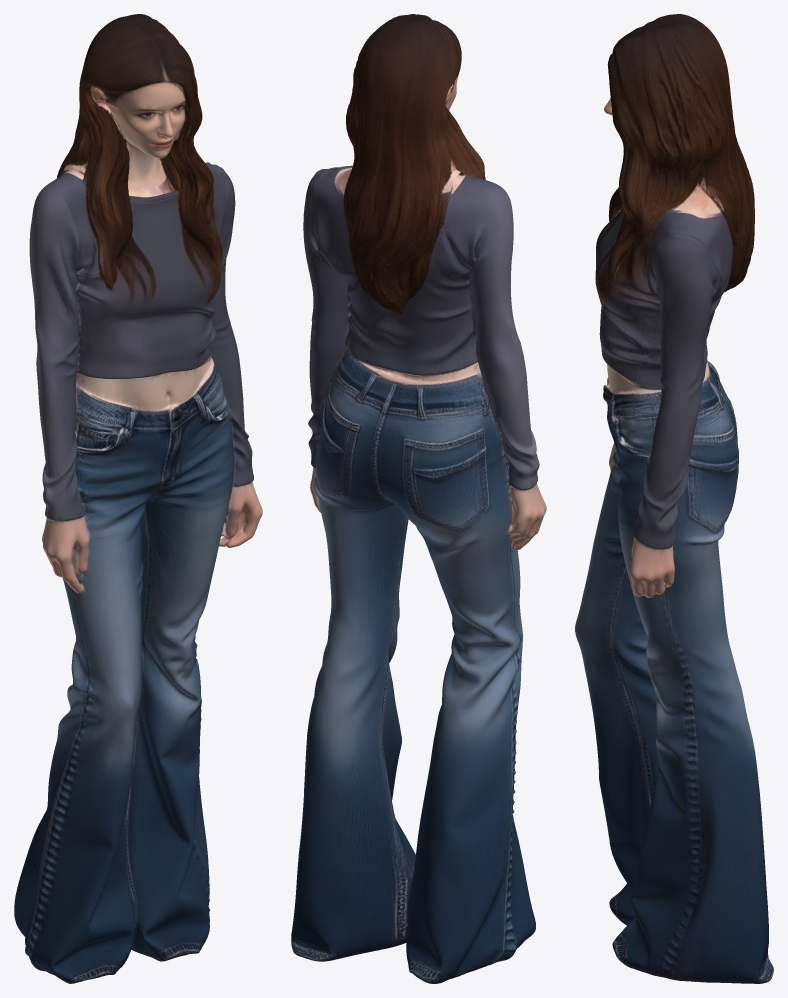
File: population1.glb
3 views of the same model, side by side, from view 1: azimuth 30°, elevation 25°; view 2: azimuth 150°, elevation 25°; view 3: azimuth 270°, elevation 25° (orthographic).
Parts seen in each view (by area): view 1: Object_5, Object_6, Object_7; view 2: Object_6, Object_7, Object_5; view 3: Object_6, Object_5, Object_7.
Boxes of the visible parts, x1,y1,x2,y2 form: Object_5: (24,23,262,983); Object_6: (14,14,250,975); Object_7: (25,87,252,971); Object_6: (291,14,535,983); Object_7: (304,64,526,963); Object_5: (308,14,546,941); Object_6: (602,14,773,983); Object_5: (575,15,726,980); Object_7: (598,48,710,977).
Size of the model in its own units: 0.4757 by 1.9 by 0.3685.
Materials: 1 (1 with a texture image).
